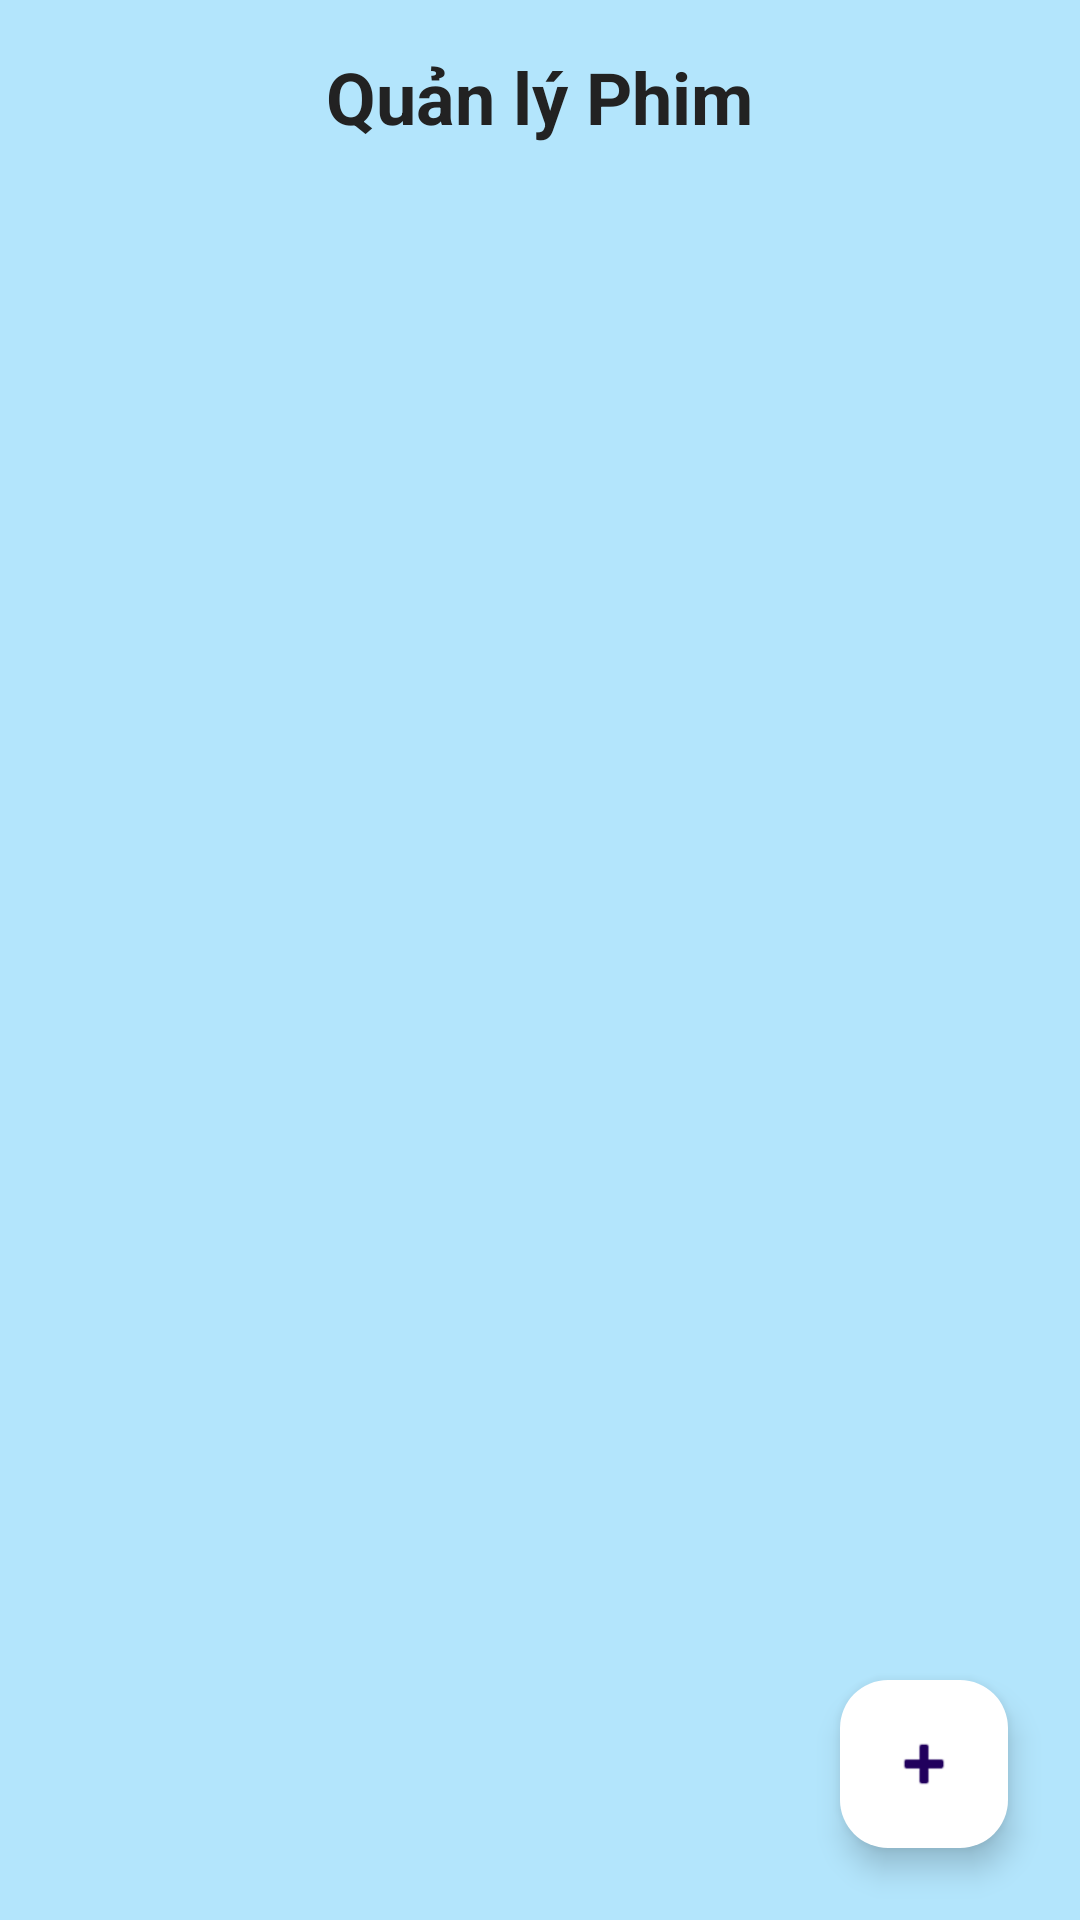

Icon bounding boxes for this 1080 x 1920 phone screenshot, format bbox=(x1, y1, x2, y2):
Thêm phim: bbox=(840, 1680, 1008, 1848)
